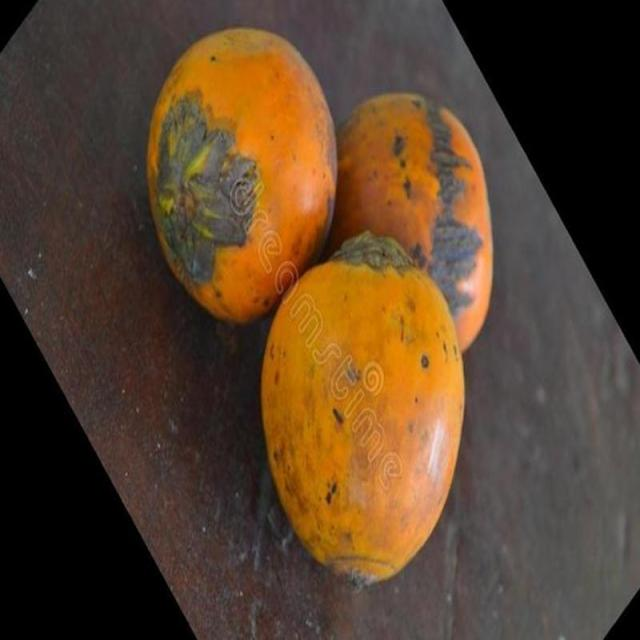good: (259, 231, 466, 586), (145, 29, 341, 327)
